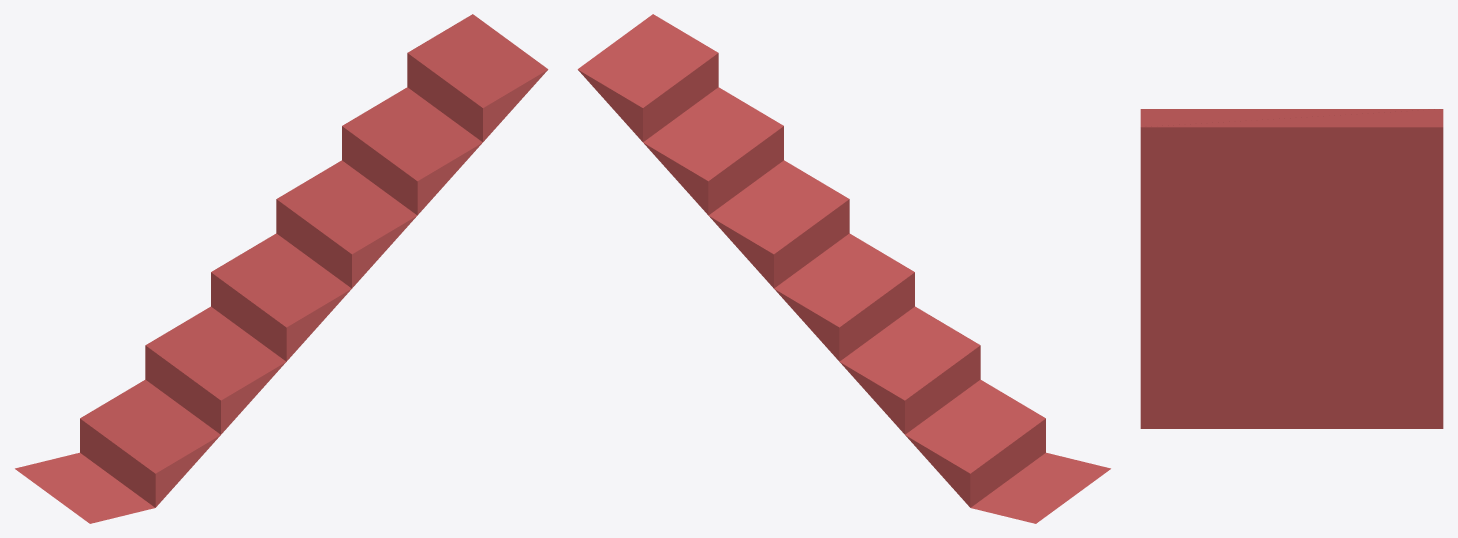
The model's file is km3_dan2.glb.
3 views of the same model, side by side, from view 1: azimuth 30°, elevation 25°; view 2: azimuth 150°, elevation 25°; view 3: azimuth 270°, elevation 25° (orthographic). The views are drawn at different scales.
Parts seen in each view (by area): view 1: km3_dan2_col; view 2: km3_dan2_col; view 3: km3_dan2_col.
Part boxes in pixels (left/top/right/bottom): km3_dan2_col: left=15, top=14, right=548, bottom=523; km3_dan2_col: left=577, top=14, right=1110, bottom=523; km3_dan2_col: left=1140, top=109, right=1443, bottom=428.
Size of the model in its own units: 2.1 by 1.5 by 0.6015.
